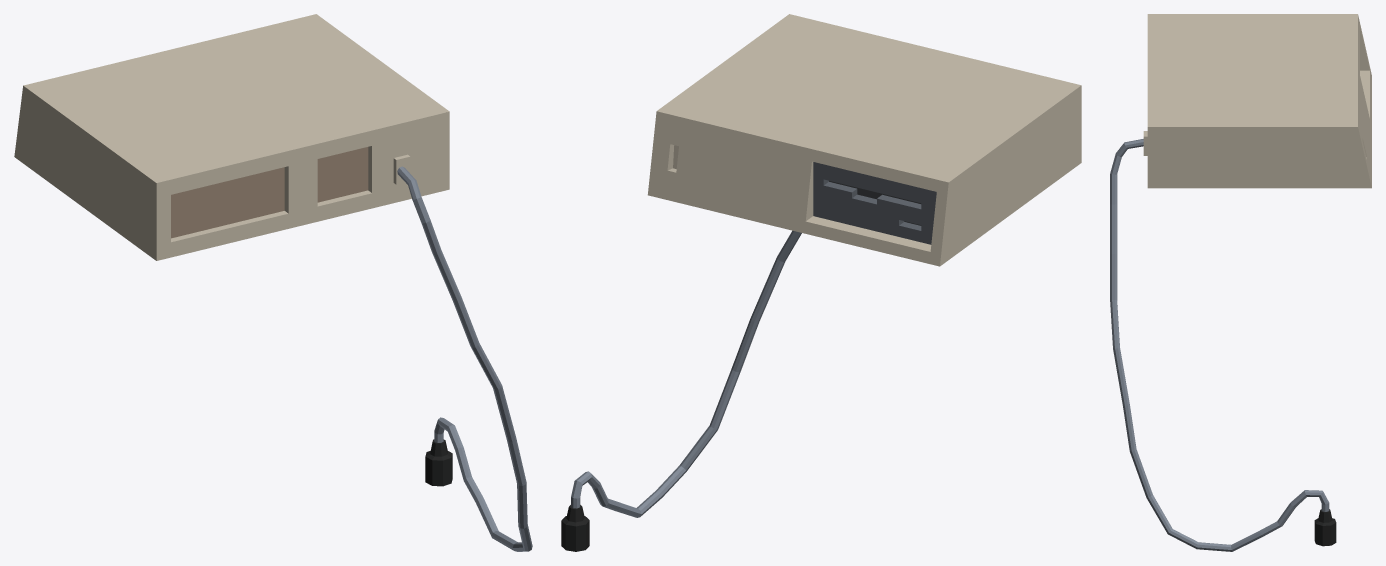
File: Computer_case_with_cord.fbx
3 views of the same model, side by side, from view 1: azimuth 30°, elevation 25°; view 2: azimuth 150°, elevation 25°; view 3: azimuth 270°, elevation 25° (orthographic). The views are drawn at different scales.
Visible parts, largest first — view 1: Computer_case, Circle.033; view 2: Computer_case, Circle.033; view 3: Computer_case, Circle.033.
Part boxes in pixels (box(x1,y1,x2,y2)): Computer_case: box(14, 14, 449, 260); Circle.033: box(397, 166, 532, 551); Computer_case: box(647, 14, 1081, 266); Circle.033: box(561, 230, 801, 551); Computer_case: box(1143, 14, 1371, 188); Circle.033: box(1110, 139, 1336, 551).
Size of the model in its own units: 1.94 by 1.37 by 2.23.
